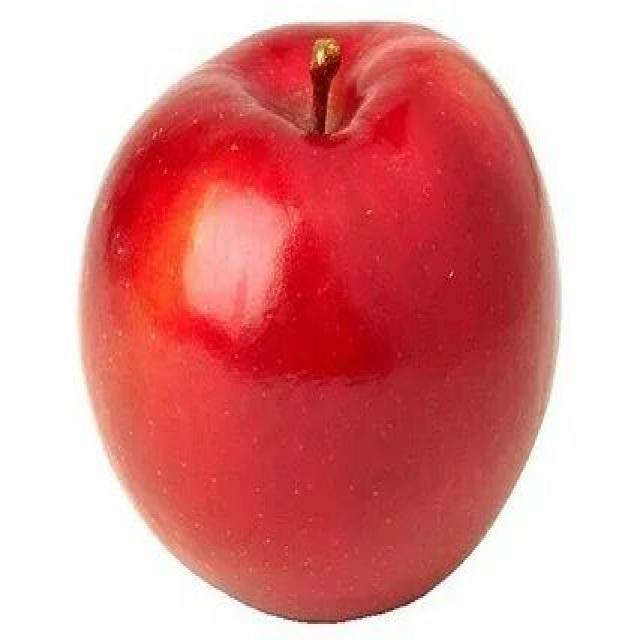Fresh Apple: (83, 19, 575, 636)
